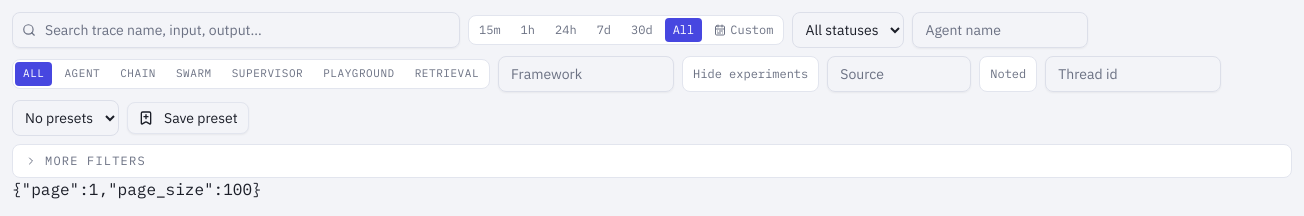
TraceFiltersBar (Sprint 3) › filters by source, with the SDK's sources suggested (1.89.0)
Type "kb_search" into the field labelled "Source". click: (899, 74)
box: [827,56,971,92]
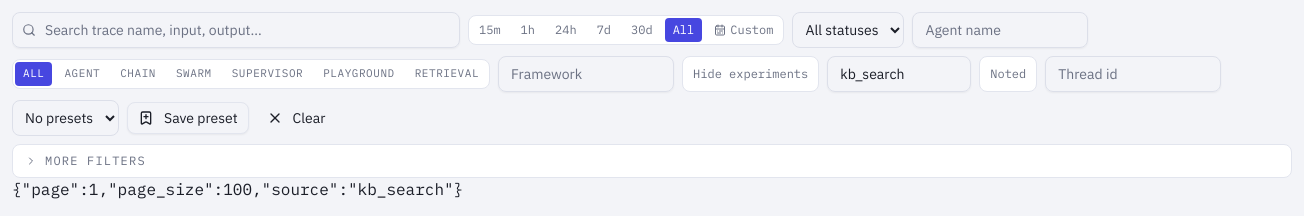
Expected: the text with test id "filters-state" shows "\"source\":\"kb_search\"", [12,179,463,199]
Clear the field named "Source". click: (899, 74)
box: [827,56,971,92]
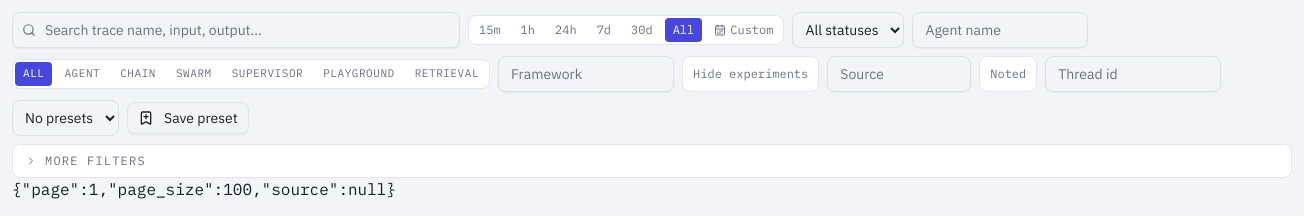
Expected: the text with test id "filters-state" shows "\"source\":null", [12,179,396,199]
